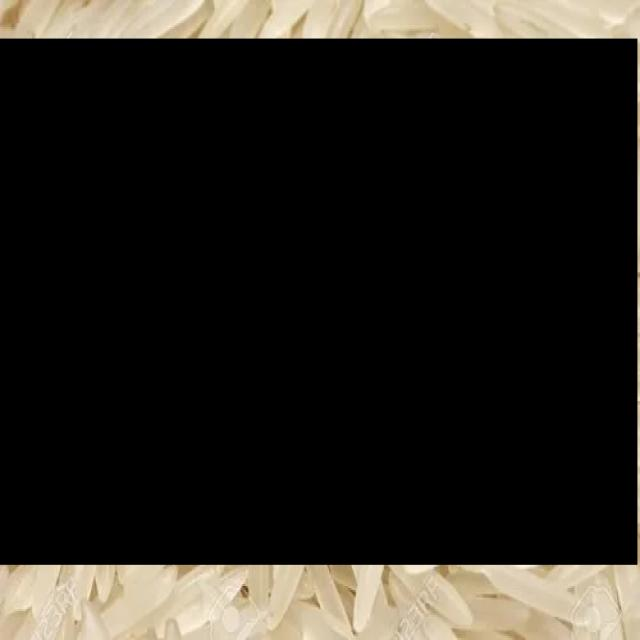Rice: (0, 38, 637, 564), (280, 298, 393, 468), (414, 336, 499, 455)
